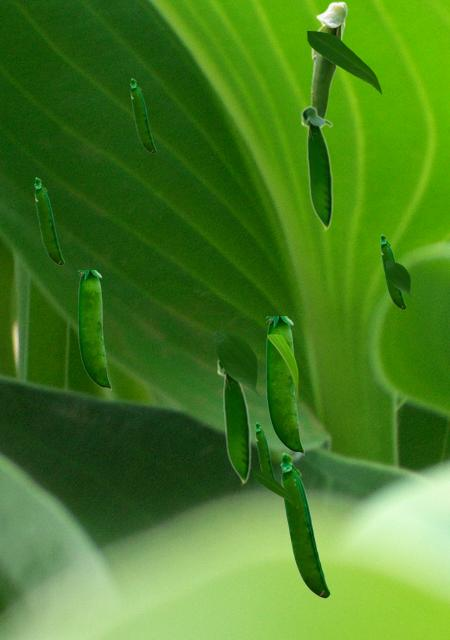pea: (280, 452, 329, 597), (266, 316, 303, 454), (310, 1, 347, 127), (216, 358, 250, 485), (300, 105, 332, 231), (78, 270, 110, 389), (34, 177, 63, 264), (380, 234, 405, 308), (130, 78, 155, 152), (255, 422, 276, 479)
